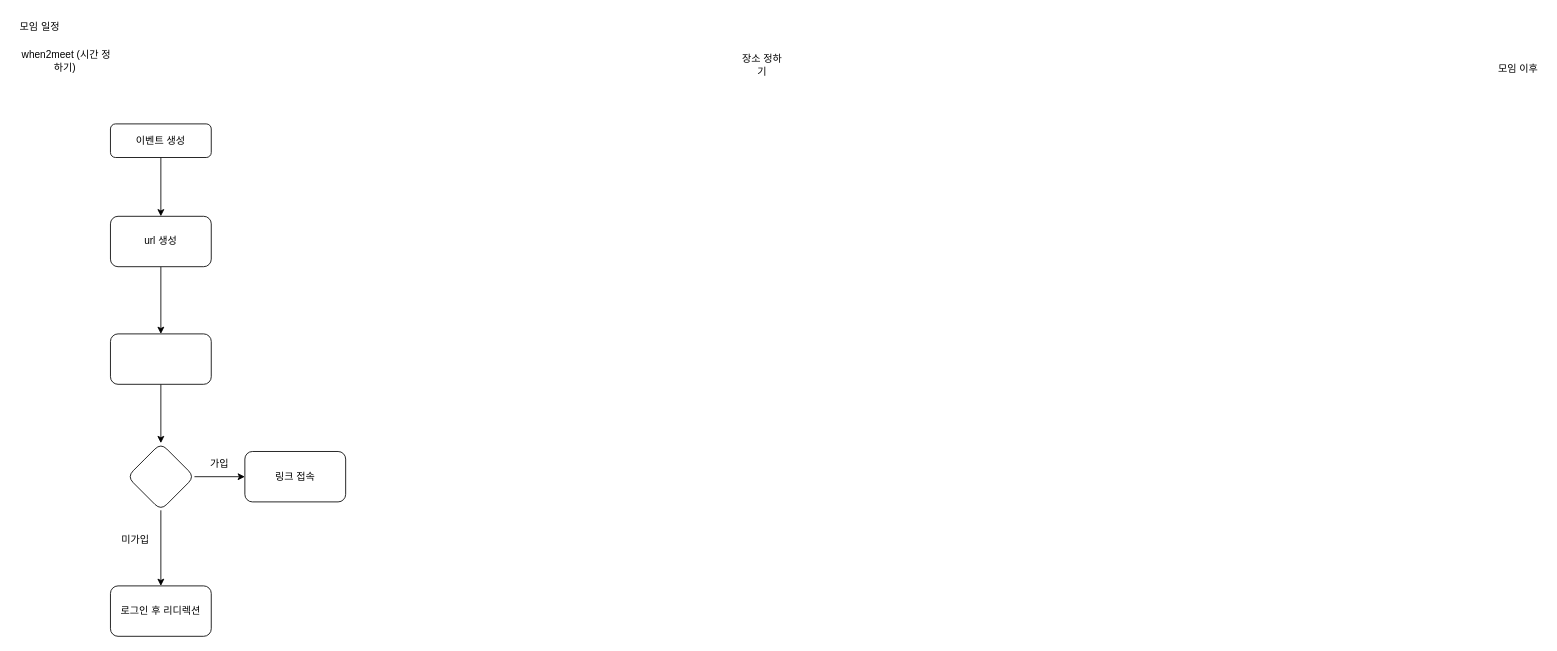
Image size: 1557x651. Some labels were removed from this diagram. Each missing label, with the centre of its shape:
"외부 공유" goes at (160,358).
"타 사용자 가입 여부" goes at (160,476).
